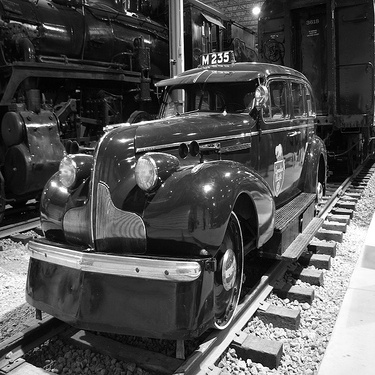car: (24, 50, 330, 337)
